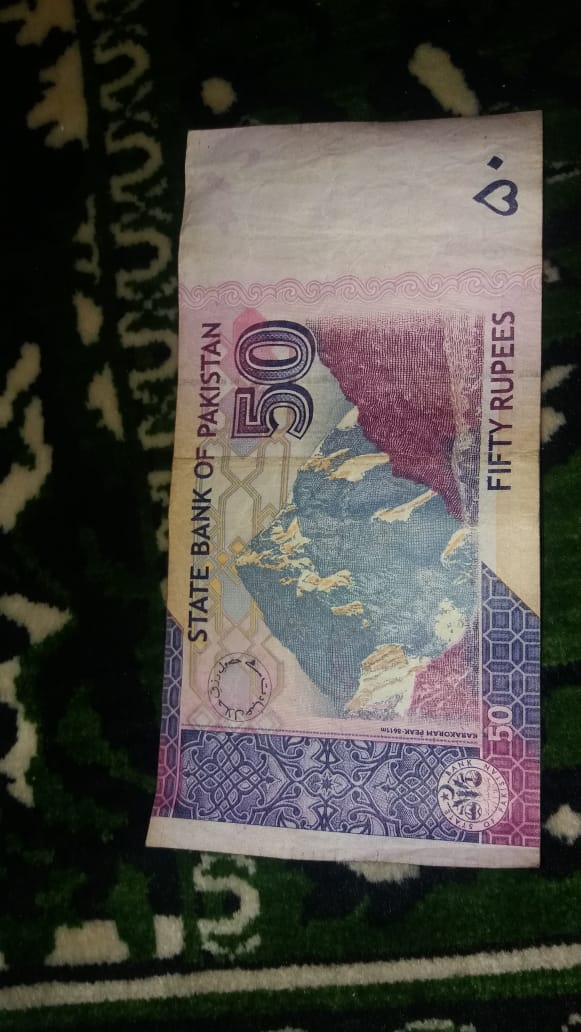50 rupee: (135, 110, 561, 874)
